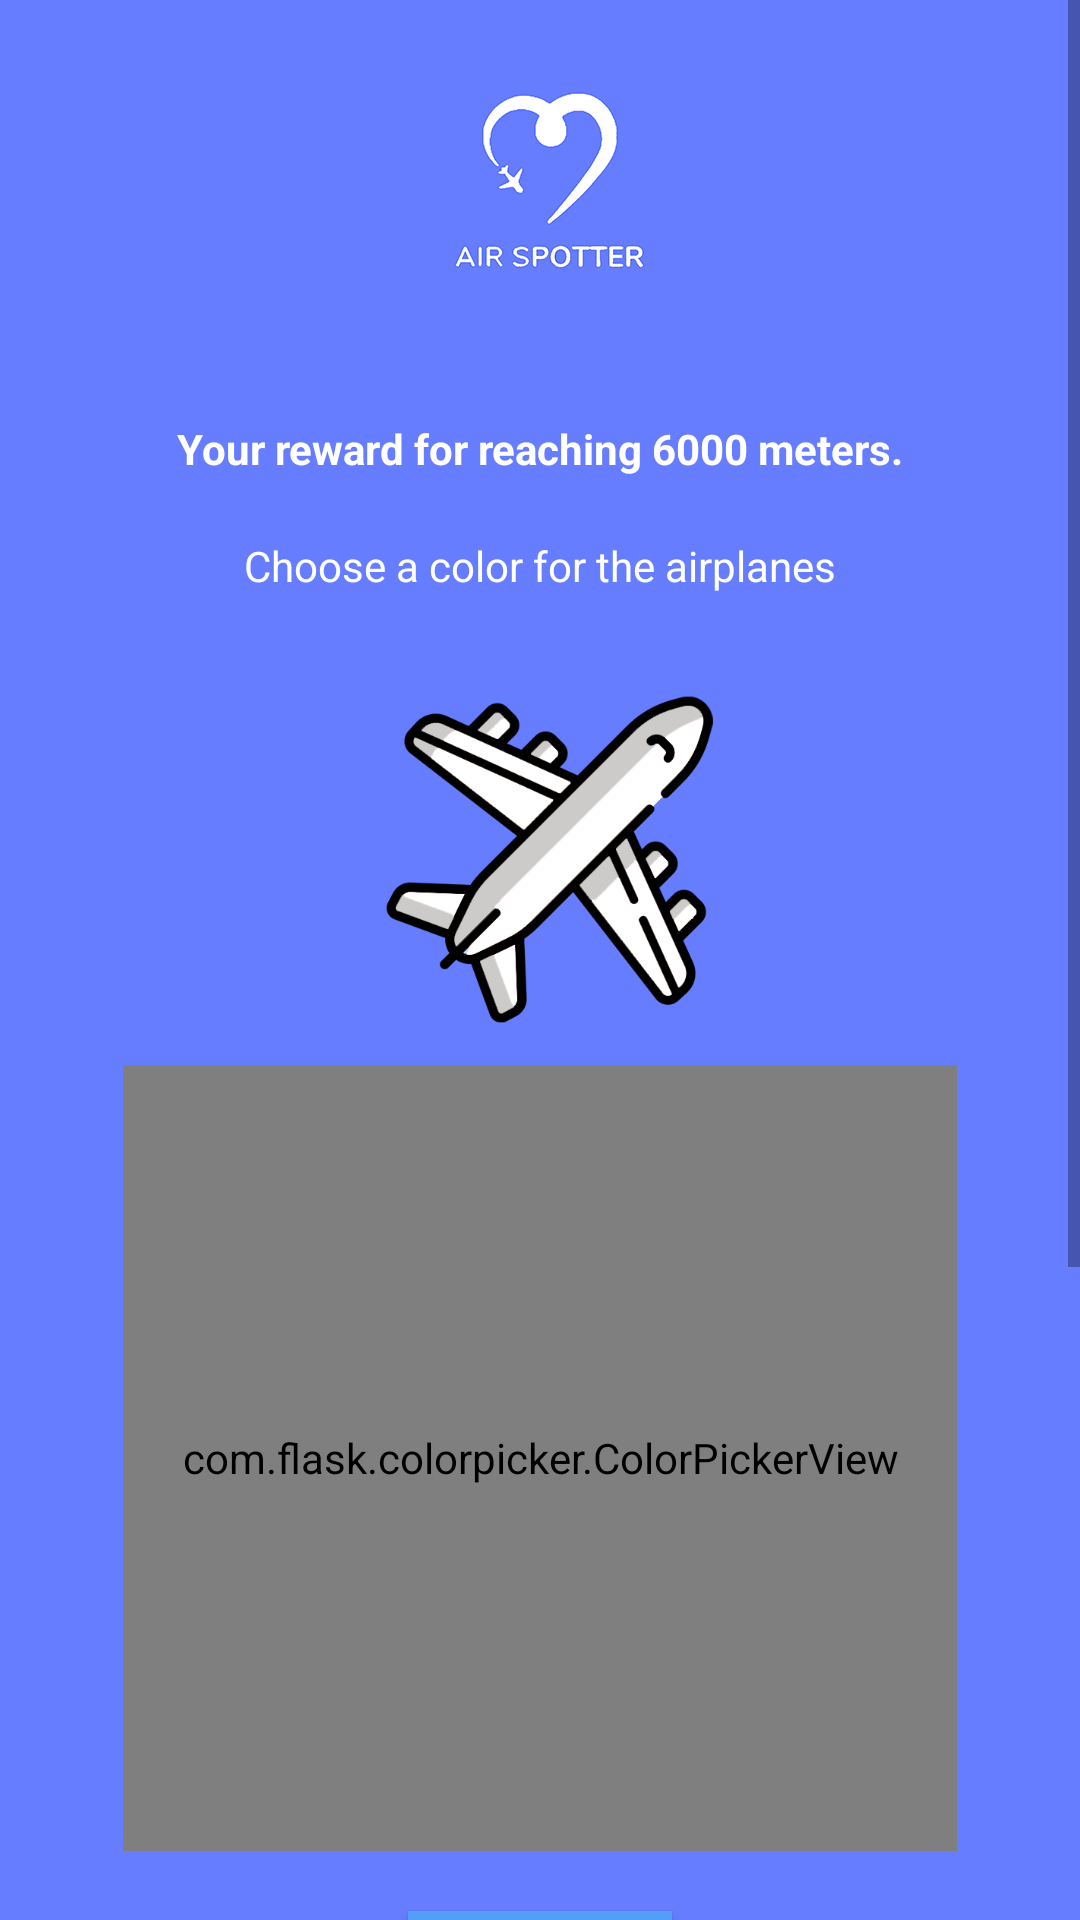

Screen size 1080w x 1920h. Icon name, then its box in pixels as (x1, y1, x2, y2):
whiteplane: (386, 696, 713, 1023)
